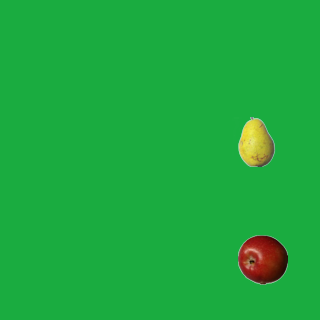Apple Braeburn: (237, 234, 287, 284)
Pear Monster: (231, 116, 281, 166)
